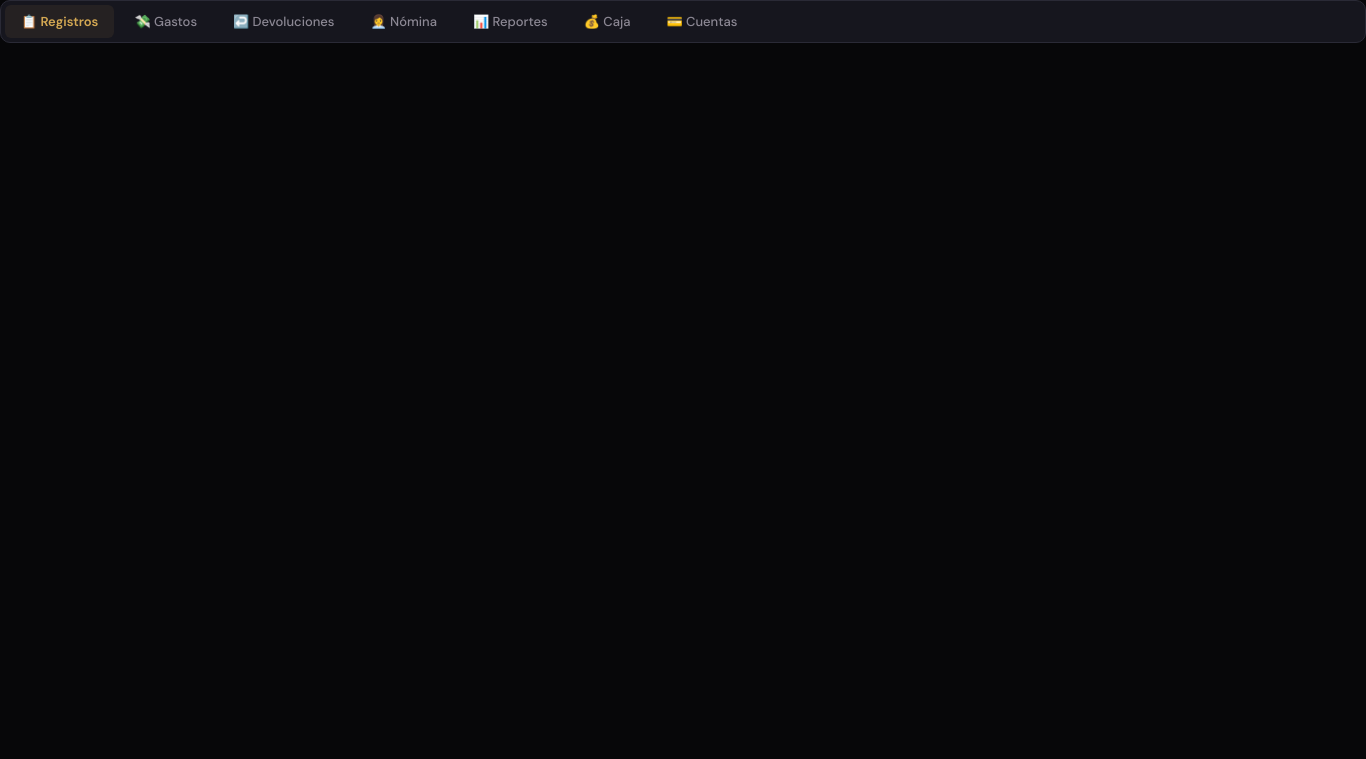
Test: FinanzasPage — tab Reportes (P&L mensual) › P&L cash-basis: muestra Cobrado, Fiado del período y Deudas por cobrar (PR2)
Click the button "📊 Reportes". click: click(510, 22)
box: [457, 5, 564, 38]
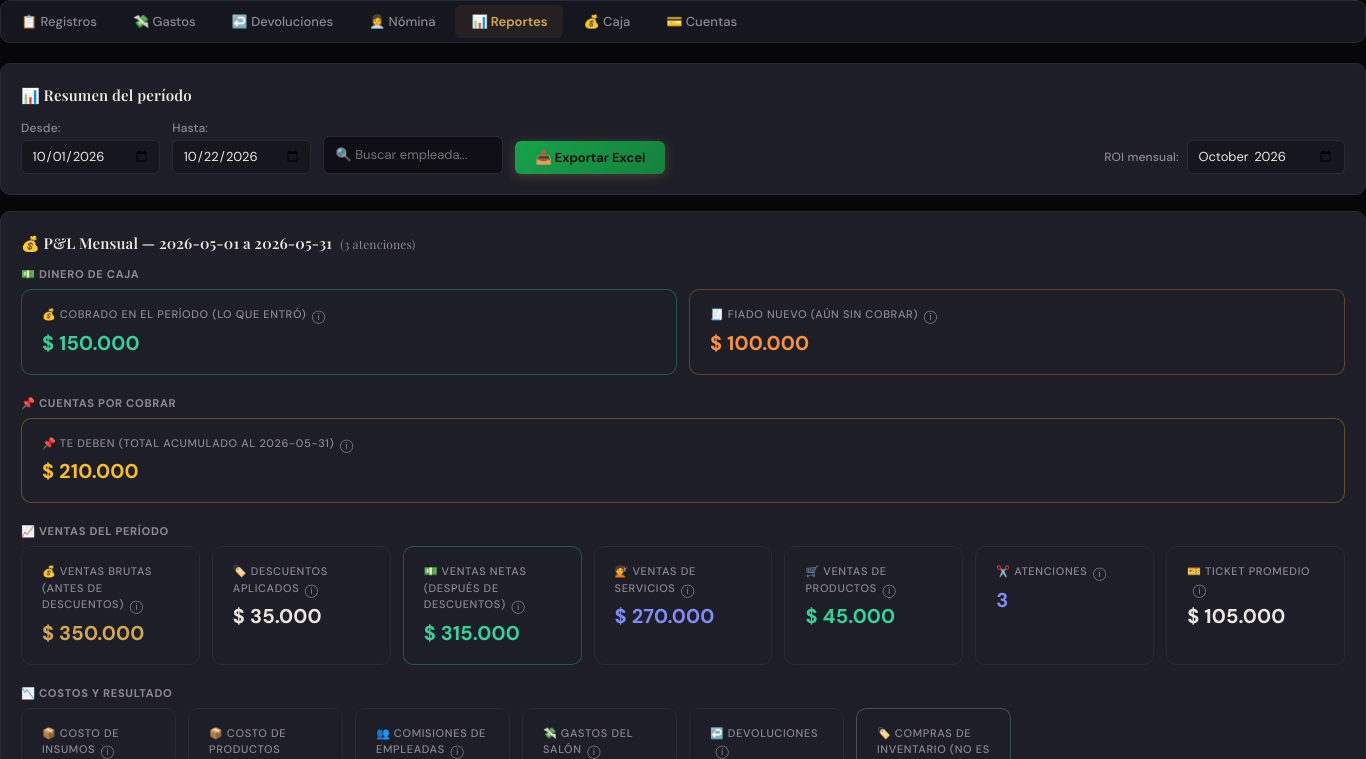
Expected: the text "💰 Cobrado en el período (lo que entró)" is shown, [42, 307, 306, 321]
Expected: the text "$ 150.000" is shown, [42, 330, 140, 356]
Expected: the text "🧾 Fiado nuevo (aún sin cobrar)" is shown, [710, 307, 918, 321]
